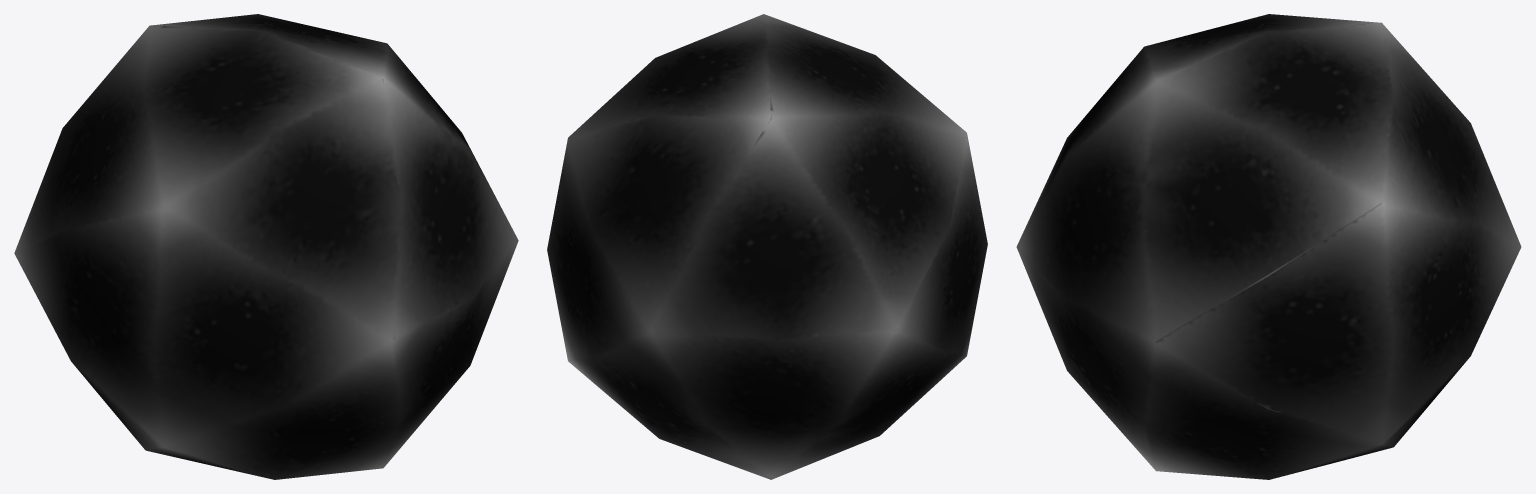
Rendered from Pickup.fbx.
3 views of the same model, side by side, from view 1: azimuth 30°, elevation 25°; view 2: azimuth 150°, elevation 25°; view 3: azimuth 270°, elevation 25° (orthographic). The views are drawn at different scales.
Parts seen in each view (by area): view 1: PowerPickup; view 2: PowerPickup; view 3: PowerPickup.
Boxes of the visible parts, x1=… form: PowerPickup: x1=14, y1=14, x2=518, y2=479; PowerPickup: x1=547, y1=14, x2=987, y2=479; PowerPickup: x1=1016, y1=14, x2=1521, y2=479.
Bounding box in the file's own units: 1.94 × 2.04 × 2.17.
